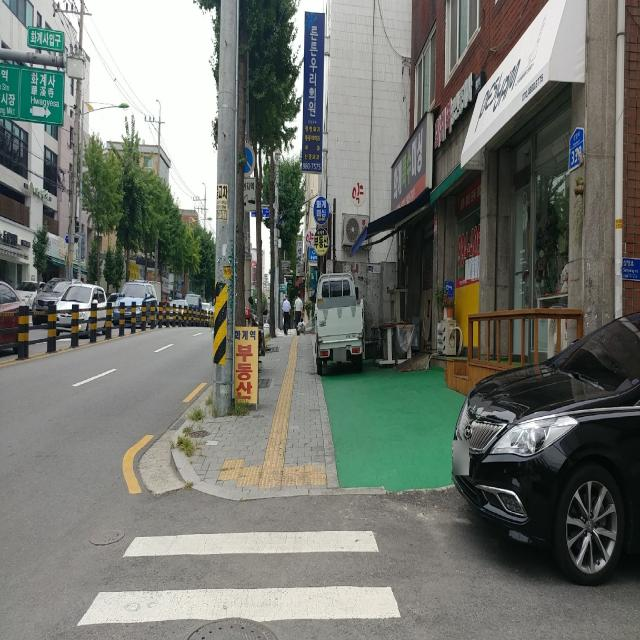횡단보도: (76, 530, 402, 627)
